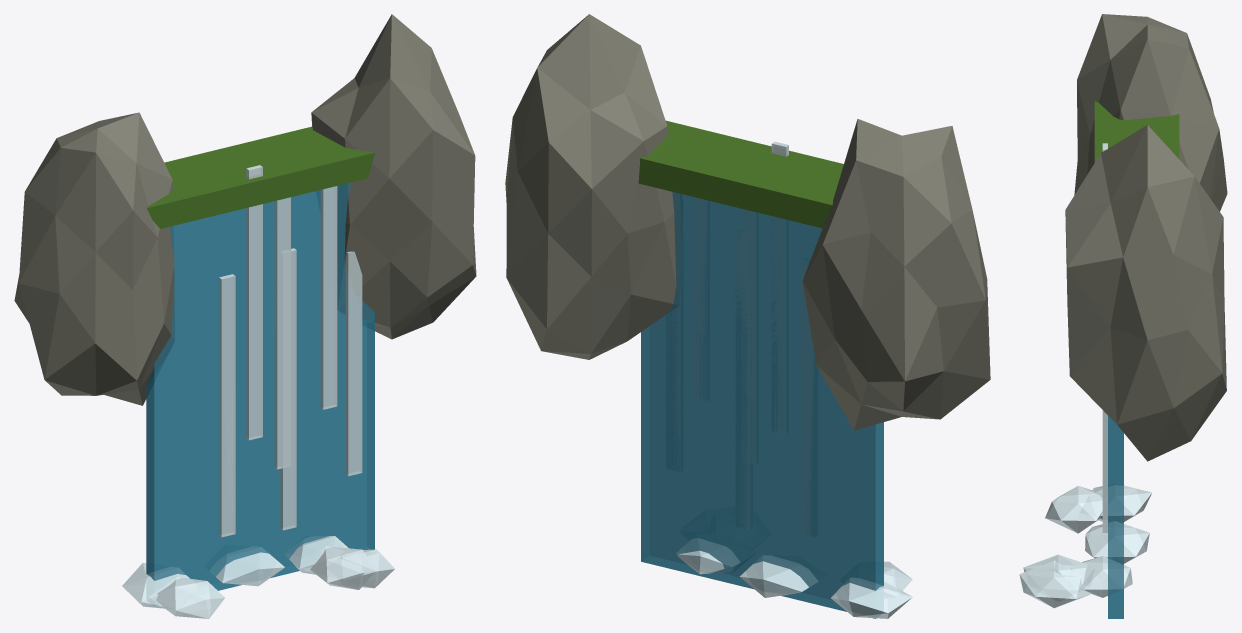
File: waterfall.glb
3 renders of one model, left to right at view 1: azimuth 30°, elevation 25°; view 2: azimuth 150°, elevation 25°; view 3: azimuth 270°, elevation 25°, orthographic. The views are drawn at different scales.
Parts seen in each view (by area): view 1: stone, water, foam, moss; view 2: stone, water, foam, moss; view 3: stone, foam, water, moss.
Part boxes in pixels (x1,y1,x2,y2): stone: [14, 14, 476, 405]; water: [146, 182, 374, 590]; foam: [122, 165, 394, 618]; moss: [146, 126, 374, 228]; stone: [505, 14, 990, 430]; water: [641, 192, 883, 618]; foam: [666, 141, 912, 618]; moss: [638, 120, 843, 228]; stone: [1065, 14, 1227, 461]; foam: [1019, 143, 1152, 608]; water: [1108, 416, 1123, 618]; moss: [1094, 101, 1179, 162].
Size of the model in its own units: 4.92 by 5.38 by 1.97.
